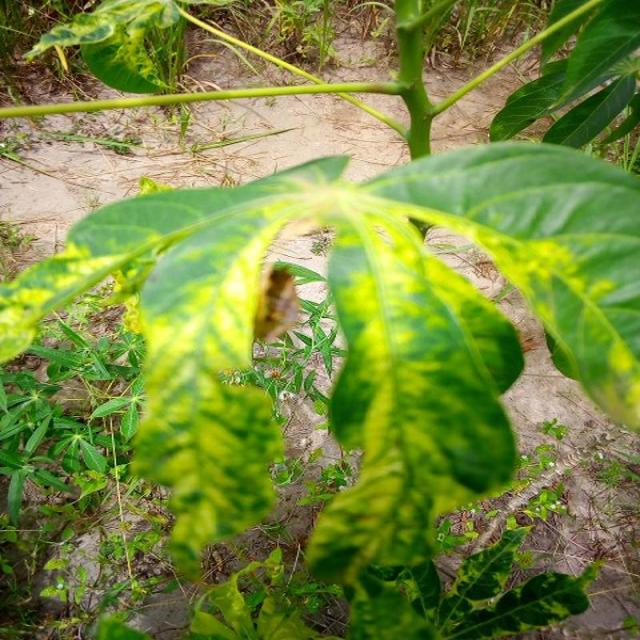cassava leaf: (1, 139, 638, 593), (303, 203, 525, 586)
